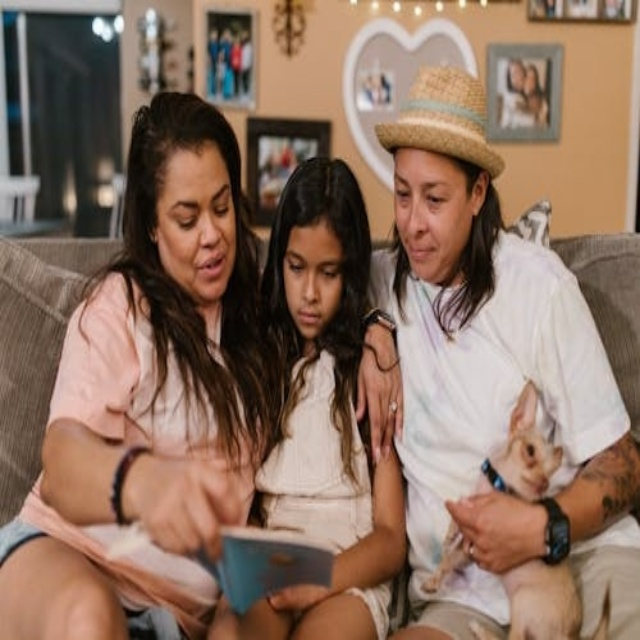Sin_gafas: (164, 177, 233, 233), (392, 161, 460, 211), (285, 244, 339, 286)
Sin_guantes: (126, 447, 246, 563), (440, 480, 547, 577), (355, 320, 404, 463)
Sin_mascara: (189, 242, 233, 298), (399, 231, 442, 281), (293, 300, 321, 332)
